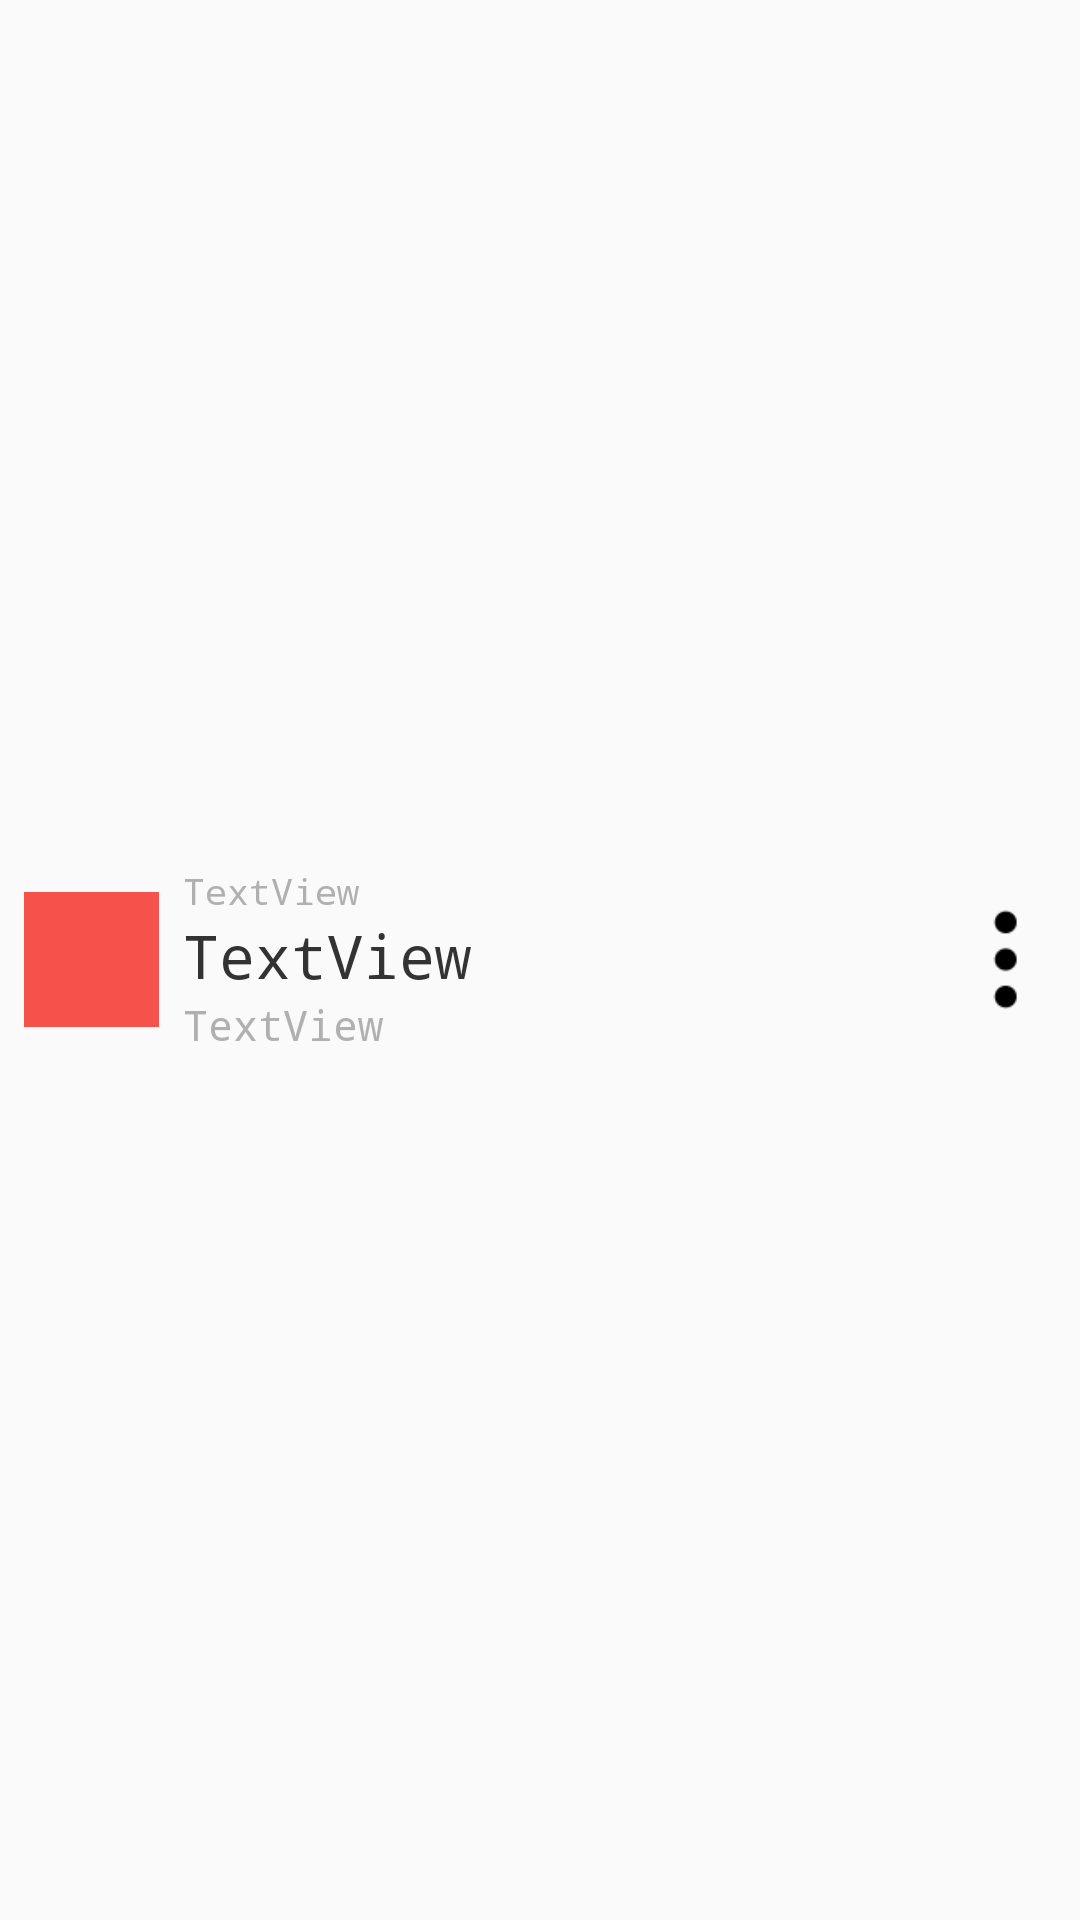

Icons on this 1080*1920 Android screen, each with the point to tap as (x,y):
detail: (1005,959)
